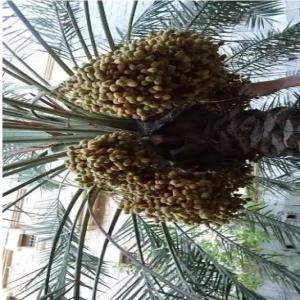palm tree: (2, 0, 299, 300)
